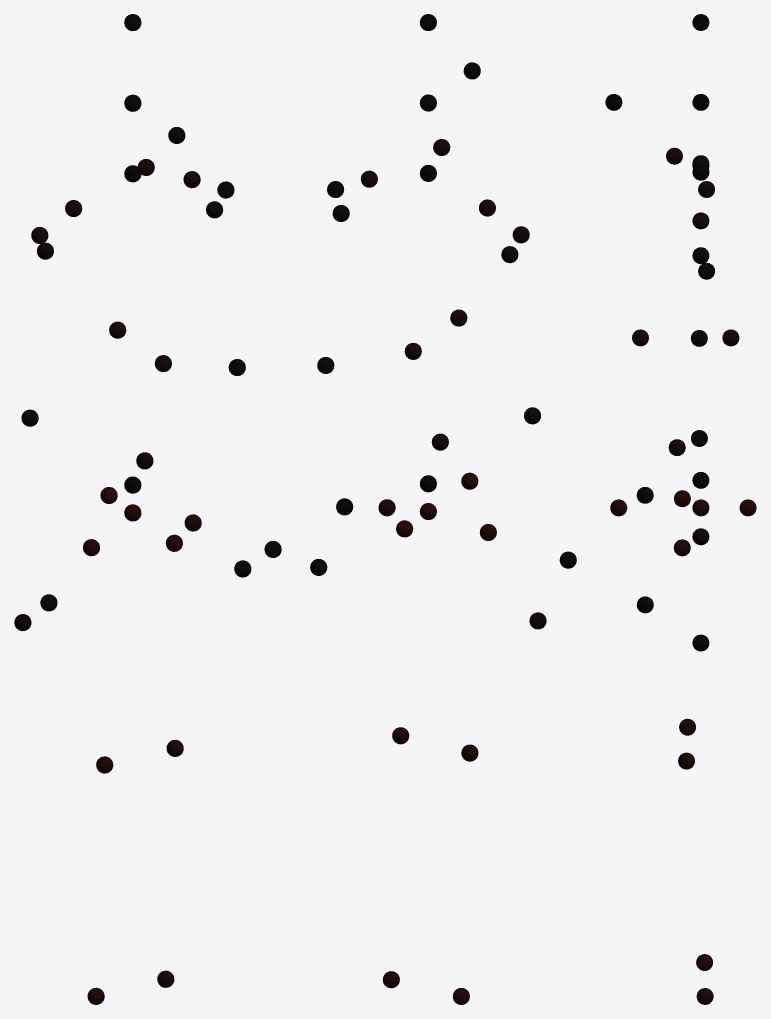
The model's file is humano2.gltf.
3 renders of one model, left to right at view 1: azimuth 30°, elevation 25°; view 2: azimuth 150°, elevation 25°; view 3: azimuth 270°, elevation 25°, orthographic.
Bounding box in the file's own units: 1.59 × 6.26 × 0.8828.
